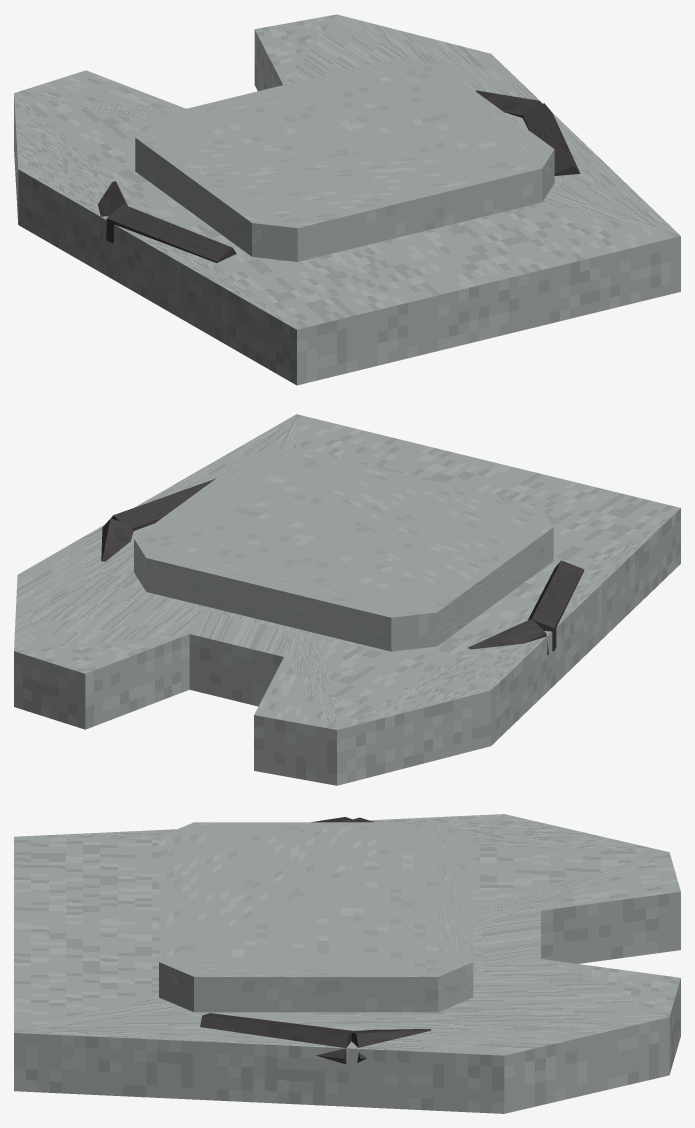
The model's file is kevlar.glb.
The picture shows the model from 3 angles, top to bottom: view 1: azimuth 30°, elevation 25°; view 2: azimuth 150°, elevation 25°; view 3: azimuth 270°, elevation 25°; orthographic projection. The views are drawn at different scales.
Parts seen in each view (by area): view 1: block_vest body, block_front protection panel, block_adjustment strap 1 (×2), block_adjustment strap 0 (×2); view 2: block_vest body, block_front protection panel, block_adjustment strap 1 (×2), block_adjustment strap 0 (×2); view 3: block_vest body, block_front protection panel, block_adjustment strap 1, block_adjustment strap 0.
Part boxes in pixels (<box>): block_vest body: <box>14,14,680,385</box>; block_front protection panel: <box>135,58,554,261</box>; block_adjustment strap 1 (×2): <box>106,103,580,262</box>; block_adjustment strap 0 (×2): <box>97,90,541,236</box>; block_vest body: <box>14,414,680,785</box>; block_front protection panel: <box>134,448,553,651</box>; block_adjustment strap 1 (×2): <box>111,479,584,651</box>; block_adjustment strap 0 (×2): <box>101,518,548,655</box>; block_vest body: <box>14,814,680,1113</box>; block_front protection panel: <box>159,822,473,1012</box>; block_adjustment strap 1: <box>200,1013,354,1064</box>; block_adjustment strap 0: <box>351,1029,431,1062</box>.
Size of the model in its own units: 0.3606 by 0.0652 by 0.4207.
1 material, 1 textured.
